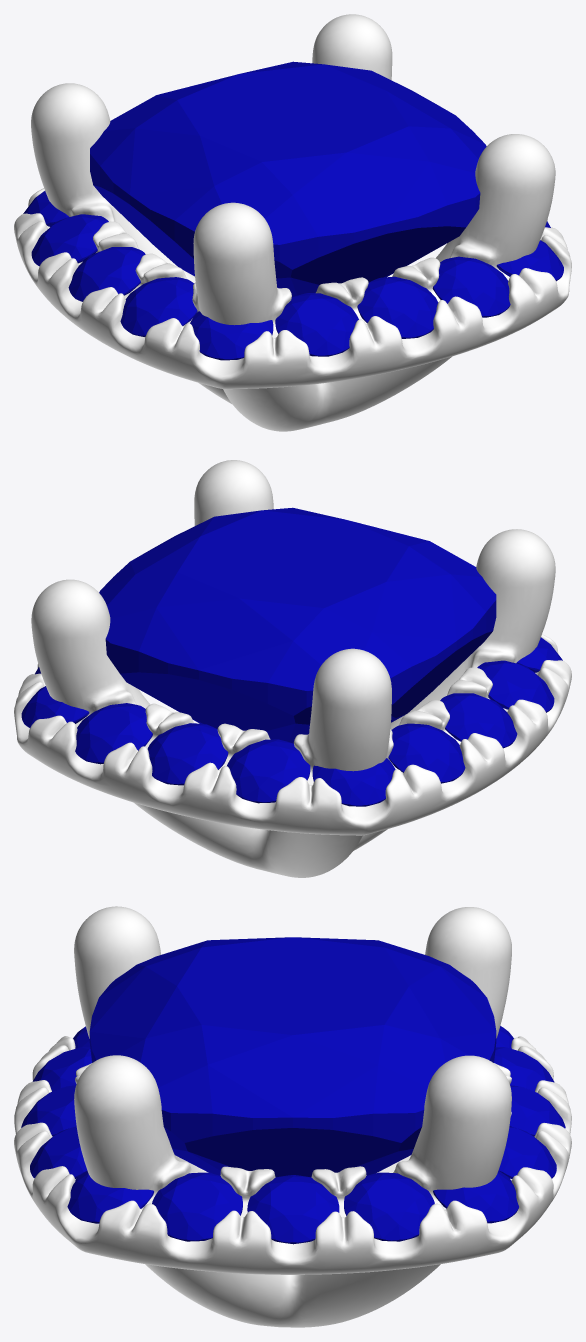
Rendered from Cushion Square.glb.
3 views of the same model, one above another, from view 1: azimuth 30°, elevation 25°; view 2: azimuth 150°, elevation 25°; view 3: azimuth 270°, elevation 25° (orthographic). The views are drawn at different scales.
Parts seen in each view (by area): view 1: /Cushion Square Single Halo.3dm, Diamond_Cushion Square, Diamond_Round (×9); view 2: /Cushion Square Single Halo.3dm, Diamond_Cushion Square, Diamond_Round (×9); view 3: /Cushion Square Single Halo.3dm, Diamond_Cushion Square, Diamond_Round (×11).
Part boxes in pixels (left/top/right/bottom): /Cushion Square Single Halo.3dm: left=14, top=14, right=571, bottom=431; Diamond_Cushion Square: left=90, top=61, right=486, bottom=297; Diamond_Round (×9): left=23, top=191, right=563, bottom=360; /Cushion Square Single Halo.3dm: left=14, top=460, right=571, bottom=877; Diamond_Cushion Square: left=99, top=507, right=496, bottom=743; Diamond_Round (×9): left=21, top=637, right=562, bottom=806; /Cushion Square Single Halo.3dm: left=14, top=906, right=571, bottom=1327; Diamond_Cushion Square: left=89, top=937, right=496, bottom=1177; Diamond_Round (×11): left=21, top=1047, right=565, bottom=1244.
Size of the model in its own units: 9.57 by 6.37 by 9.57.
